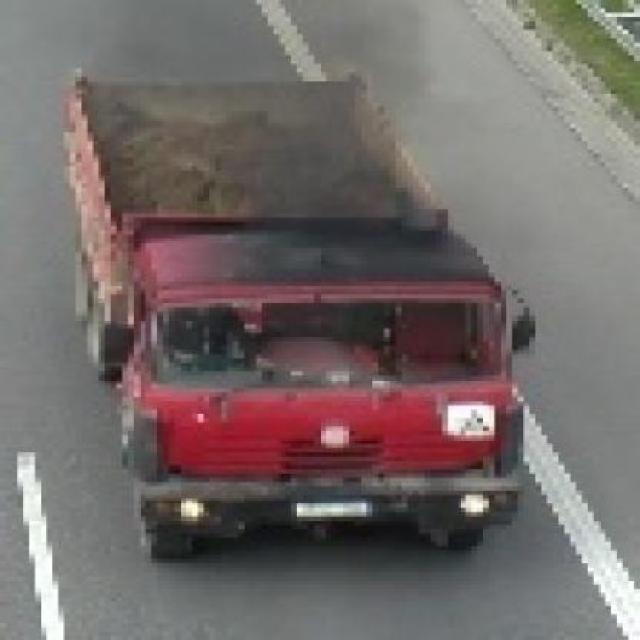truck: (60, 69, 543, 569)
